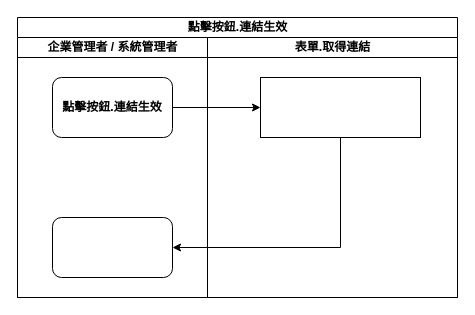
Image size: 475x315. Some labels were removed from this diagram. The shapes that lost their labels are listed below. From the top down, each one's centre as x and y in pixels, then its label:
At point 340,107: "寫入連結狀態=生效 並致能按鈕.複制連結".
At point 112,247: "執行結束".
